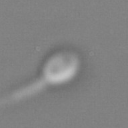normal: (1, 78, 42, 105)
